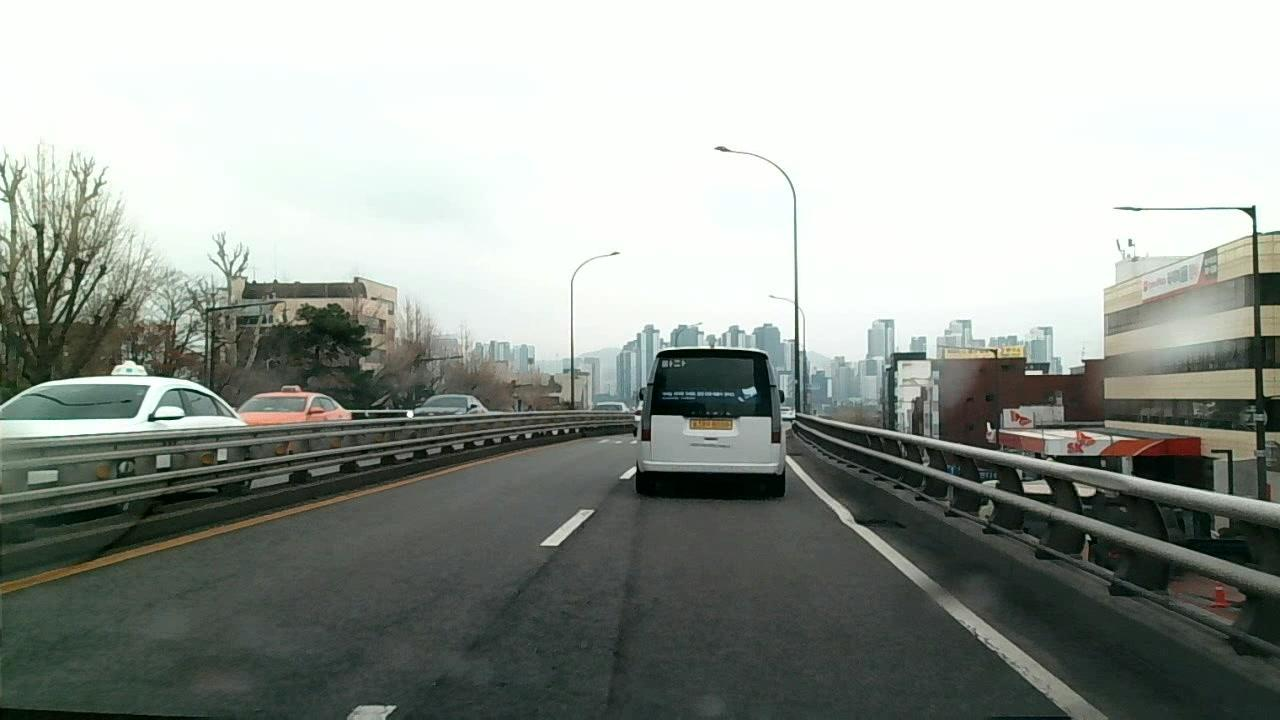banner: (446, 541, 567, 662)
